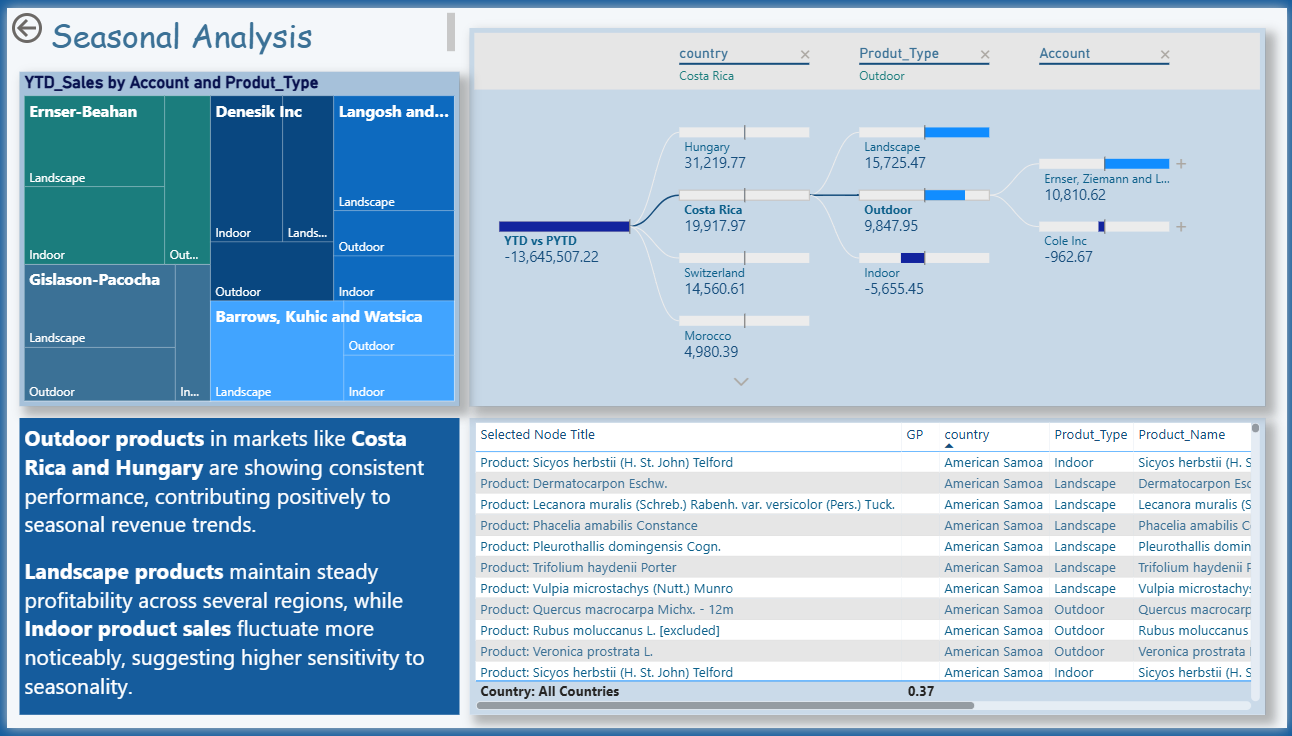

This screenshot's page, from the dashboard's own definition file:
{"tool":"powerbi","page":{"name":"Seasonality Analysis","canvas":[1280,720],"ordinal":4},"visuals":[{"type":"textbox","box":[0,0,452.9,51.4],"z":0},{"type":"decompositionTreeVisual","fields":{"Analyze":["_Measures.YTD vs PYTD"],"ExplainBy":["Dim_Accounts.country","Dim_Product.Produt_Type","Dim_Accounts.Account","Dim_Product.Product_Name"]},"box":[462.9,20,795.7,378.6],"z":1000},{"type":"actionButton","box":[0,0,100,40],"z":2000},{"type":"tableEx","fields":{"Values":["_Measures.Selected Node Title","_Measures.GP","Dim_Accounts.country","Dim_Product.Produt_Type","Dim_Product.Product_Name","Dim_Accounts.Account"]},"box":[462.9,410,795.7,297.1],"z":3000},{"type":"treemap","fields":{"Group":["Dim_Accounts.Account"],"Values":["_Measures.YTD_Sales"],"Details":["Dim_Product.Produt_Type"]},"box":[12.9,64.3,440,334.3],"z":4000},{"type":"textbox","box":[13,410,440,297],"z":5000}]}

Visuals, with their boxes in screenshot pixels (x1, y1, x2, y2), scaled from the page's 1280x720 canvas onto the 1292x736 screenshot:
textbox: [0,0,457,53]
decompositionTreeVisual - _Measures.YTD vs PYTD x Dim_Accounts.country: [467,20,1270,407]
actionButton: [0,0,101,41]
tableEx - _Measures.Selected Node Title x _Measures.GP: [467,419,1270,723]
treemap - Dim_Accounts.Account x _Measures.YTD_Sales: [13,66,457,407]
textbox: [13,419,457,723]
